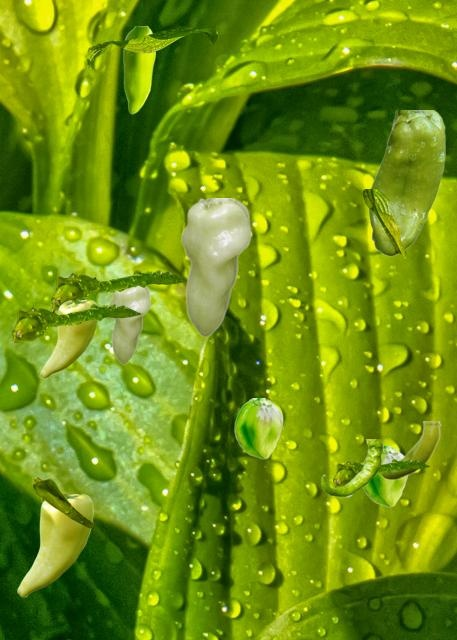green_chili: (368, 110, 444, 255), (180, 198, 250, 336), (17, 494, 92, 596), (40, 300, 97, 377), (379, 421, 440, 478), (321, 439, 382, 496), (109, 286, 149, 363), (234, 398, 282, 458), (363, 446, 408, 506), (123, 26, 154, 113)
